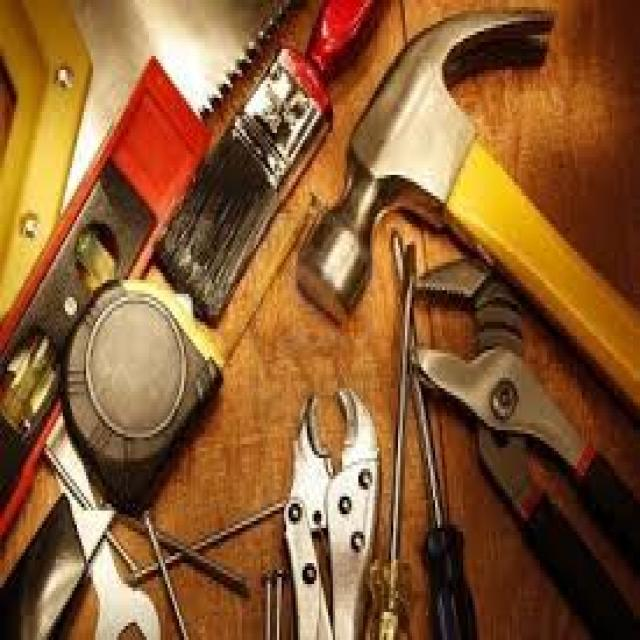hammer: (293, 0, 640, 423)
screwdriver: (382, 235, 502, 640), (361, 220, 424, 640)
